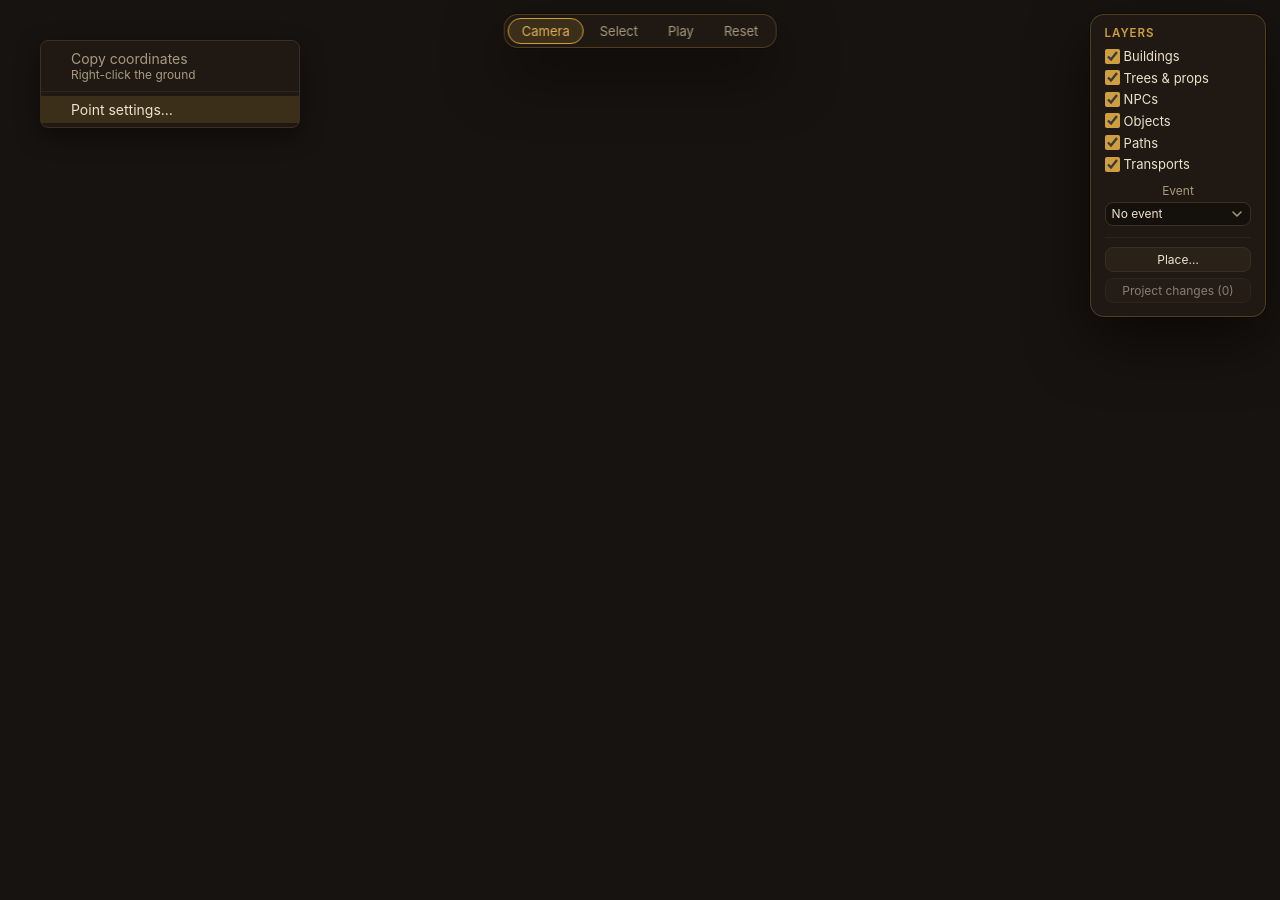
Test: a route point's settings in the 3D view › change a database route point's wait and pace, as one route edit that keeps its other columns
Click the menu item "Point settings…": x=170, y=110 x1=41 y1=96 x2=299 y2=123
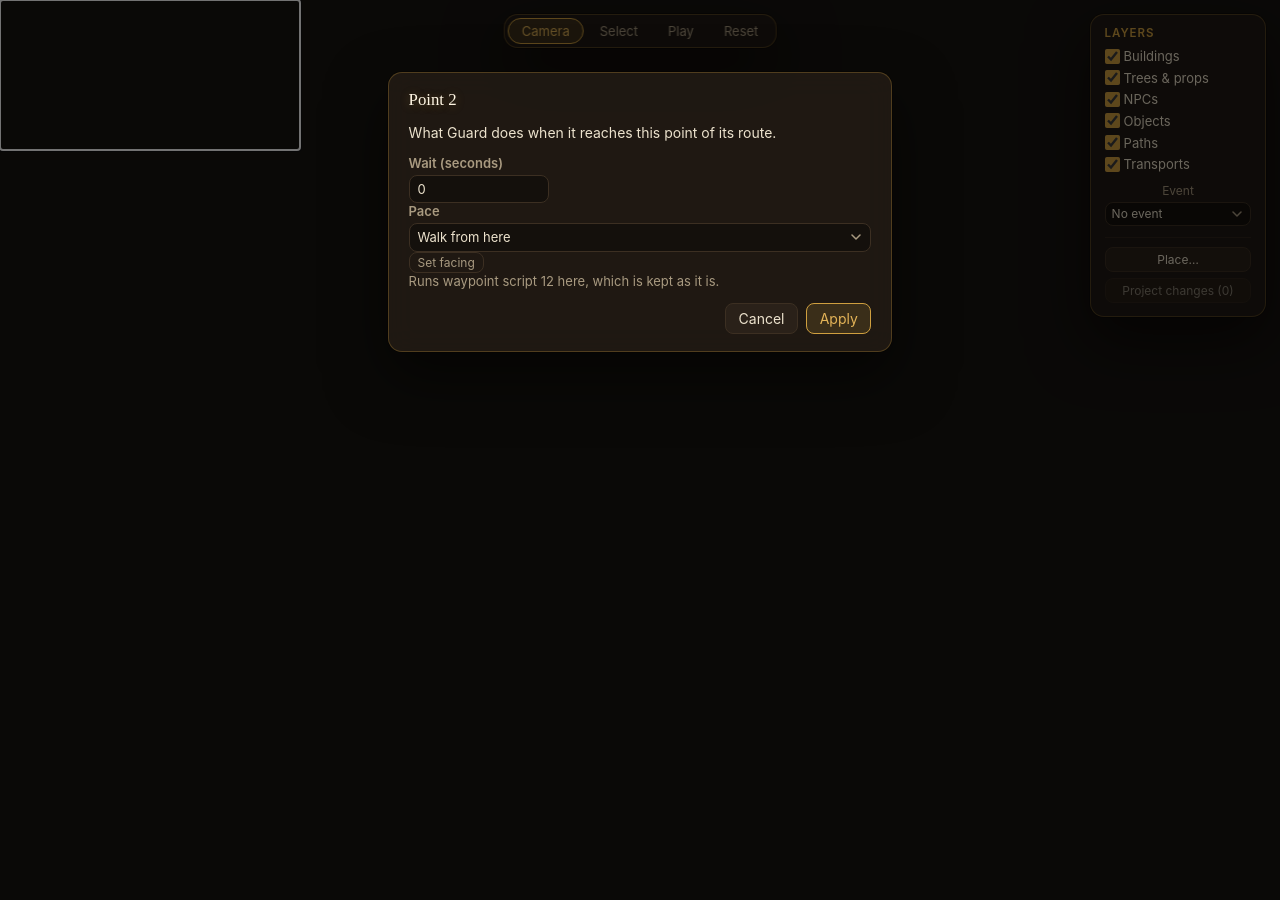
Result: the text "Runs waypoint script 12 here, which is kept as it is." is shown at x1=409 y1=272 x2=719 y2=288
Replace the text in the number field labelled "Wait (seconds)" with "5": x=479, y=189 x1=409 y1=175 x2=549 y2=203
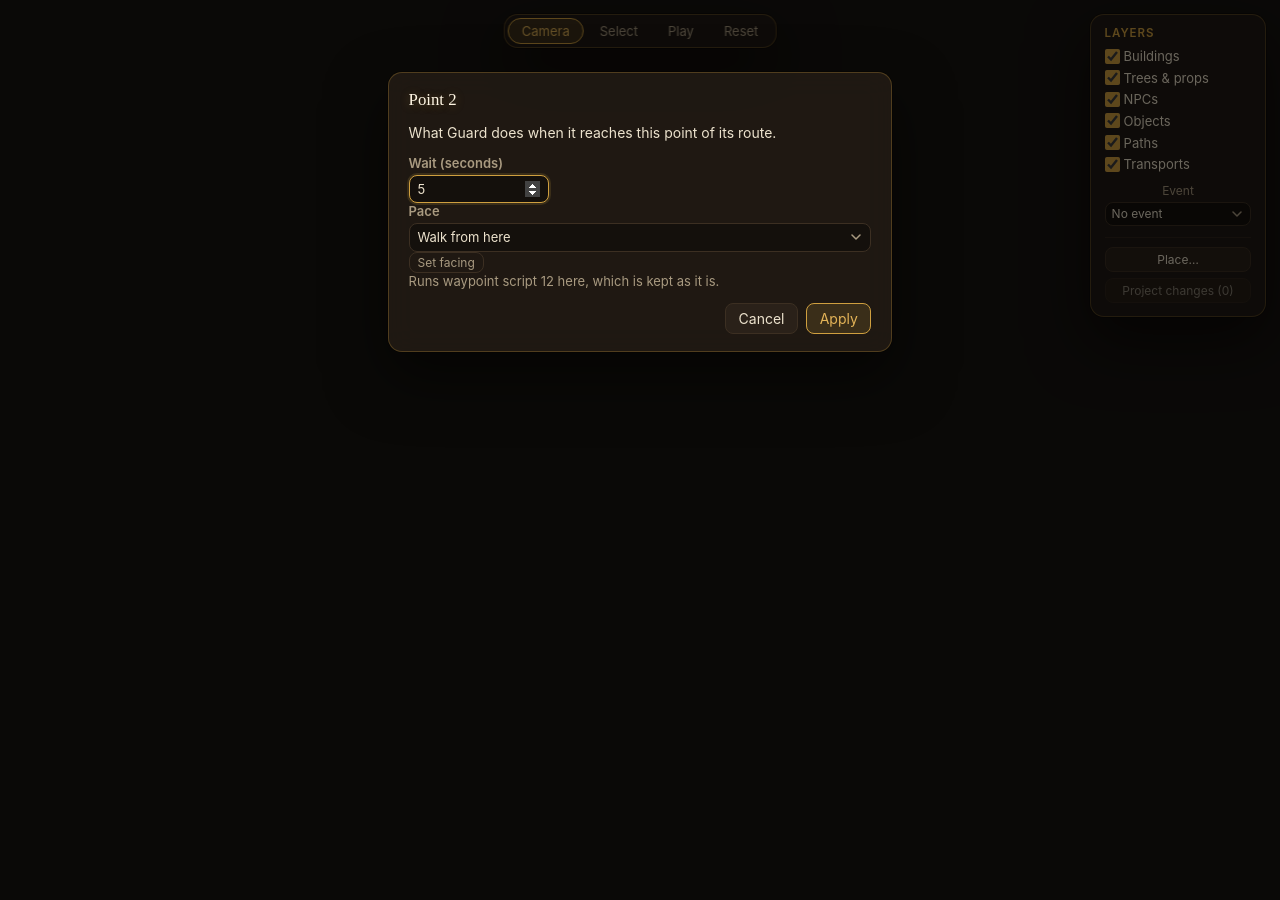
Select "Run from here" in the dropdown labelled "Pace": x=640, y=237 x1=409 y1=223 x2=871 y2=252
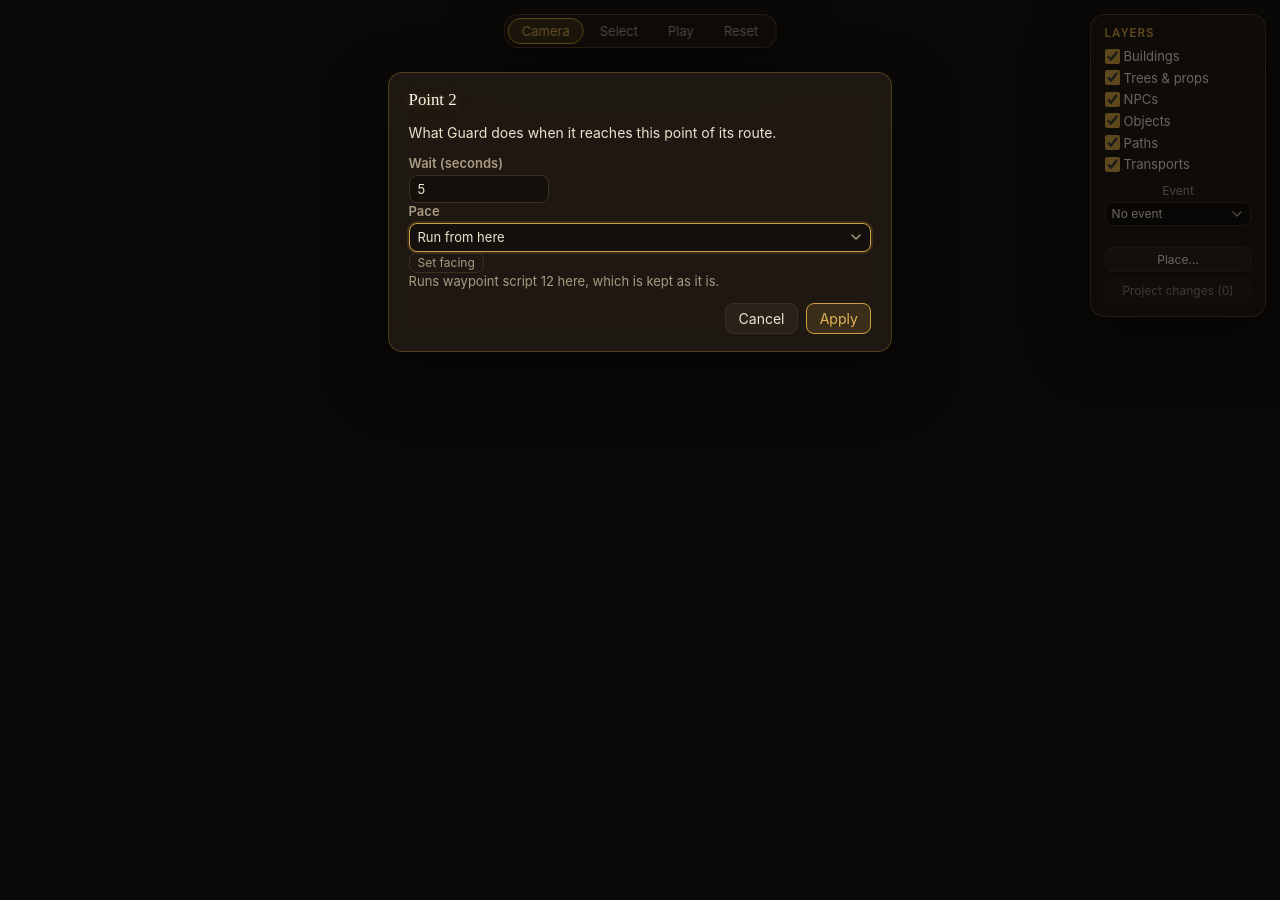
Click the button "Apply": x=839, y=318 x1=806 y1=302 x2=871 y2=334
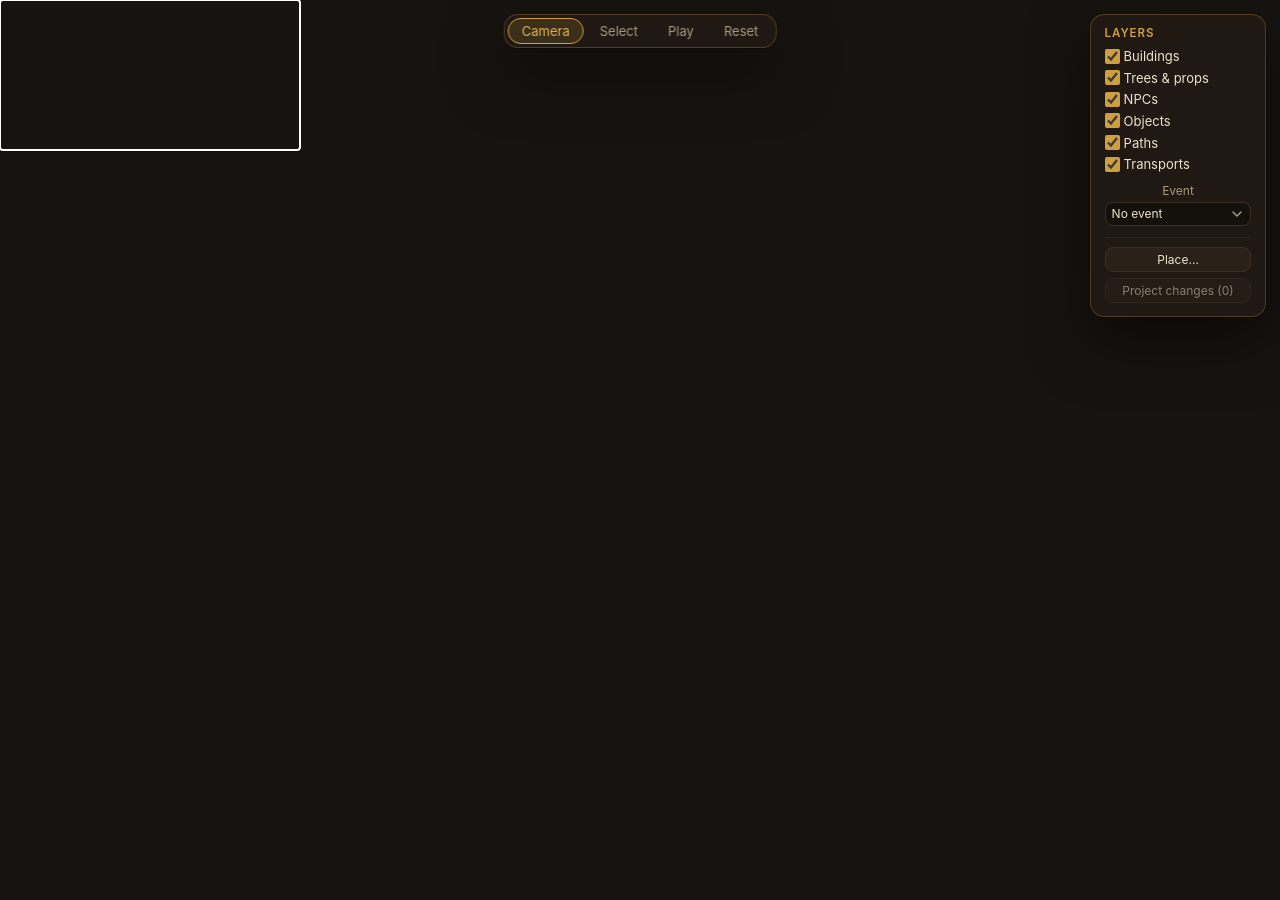
Result: the dialog is gone
